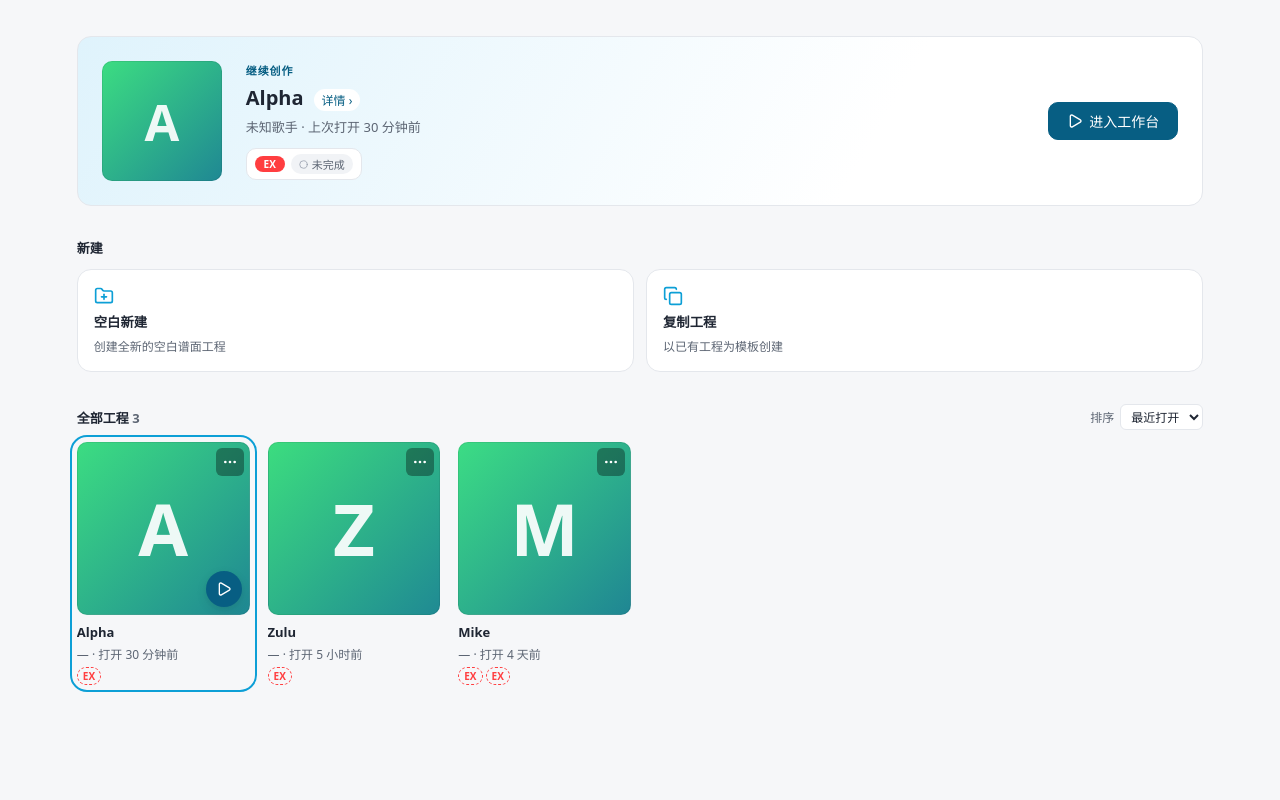
it: issue 40 · 横幅锚跟随排序键（定案 A） › b2) 运行中切「最近修改」：列表重排后横幅跟着切到 p3
This screenshot has width=1280, height=800.
Expected: the heading "全部工程 3" is shown, x1=77 y1=408 x2=140 y2=426
Expected: the heading "Alpha 详情 ›" is shown, x1=246 y1=84 x2=360 y2=111
Select "最近修改" in the dropdown labelled "排序" at (1162, 417), box x1=1120 y1=404 x2=1203 y2=430
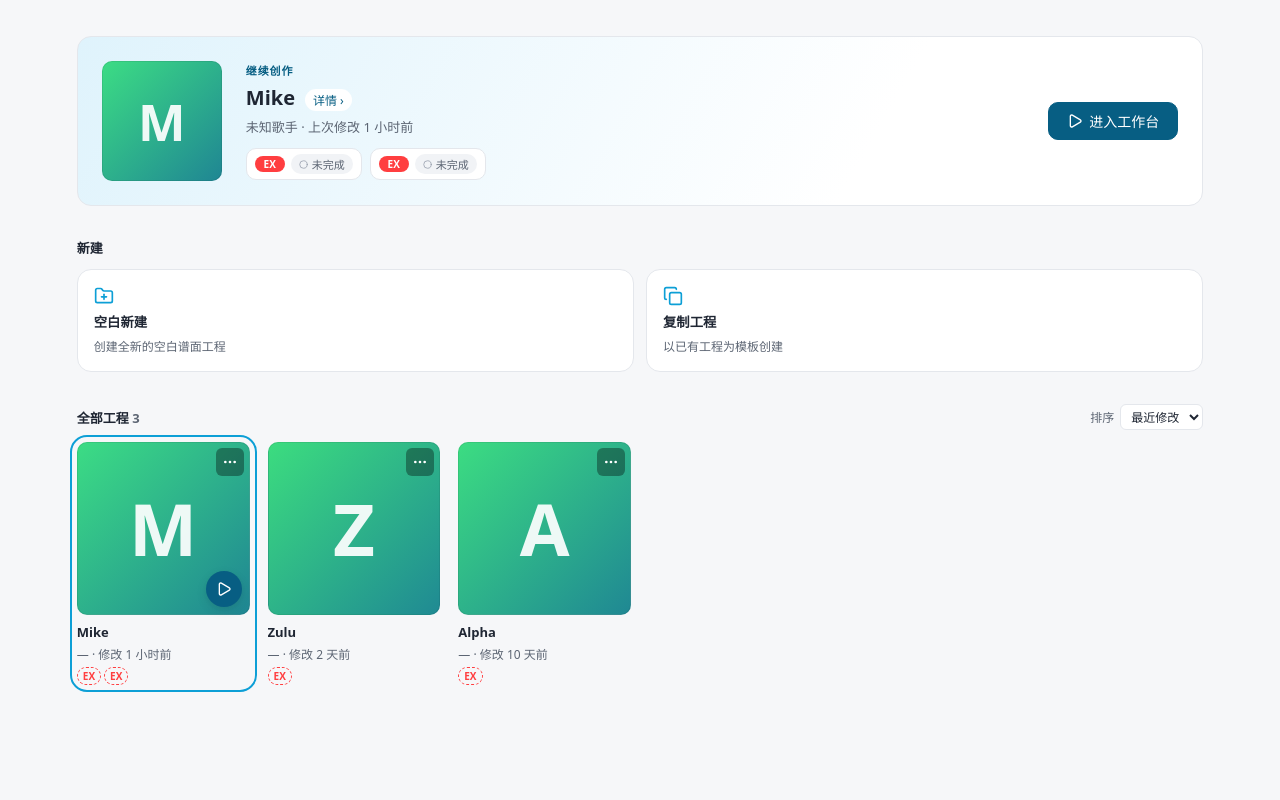
Now the heading "Mike 详情 ›" is shown, box x1=246 y1=84 x2=352 y2=111
